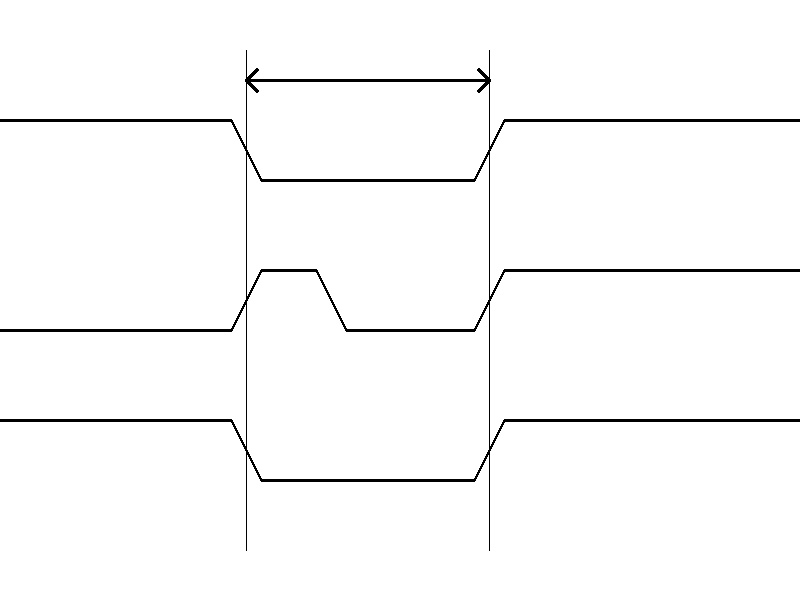double_arrow: (246, 65, 489, 95)
